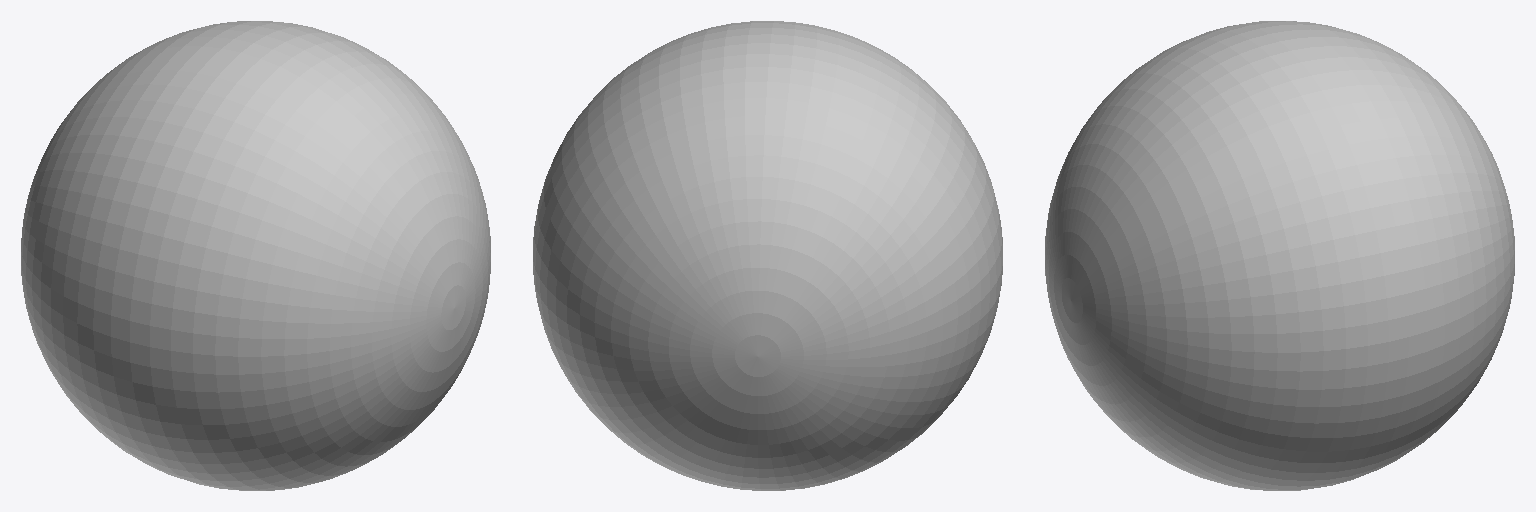
The model's file is sphereC.obj.
3 views of the same model, side by side, from view 1: azimuth 30°, elevation 25°; view 2: azimuth 150°, elevation 25°; view 3: azimuth 270°, elevation 25° (orthographic).
Parts seen in each view (by area): view 1: object_1; view 2: object_1; view 3: object_1.
Part boxes in pixels (x1,y1,x2,y2): object_1: (21, 21, 490, 490); object_1: (533, 21, 1002, 490); object_1: (1045, 21, 1514, 490).
Bounding box in the file's own units: 12.56 × 12.56 × 12.56.